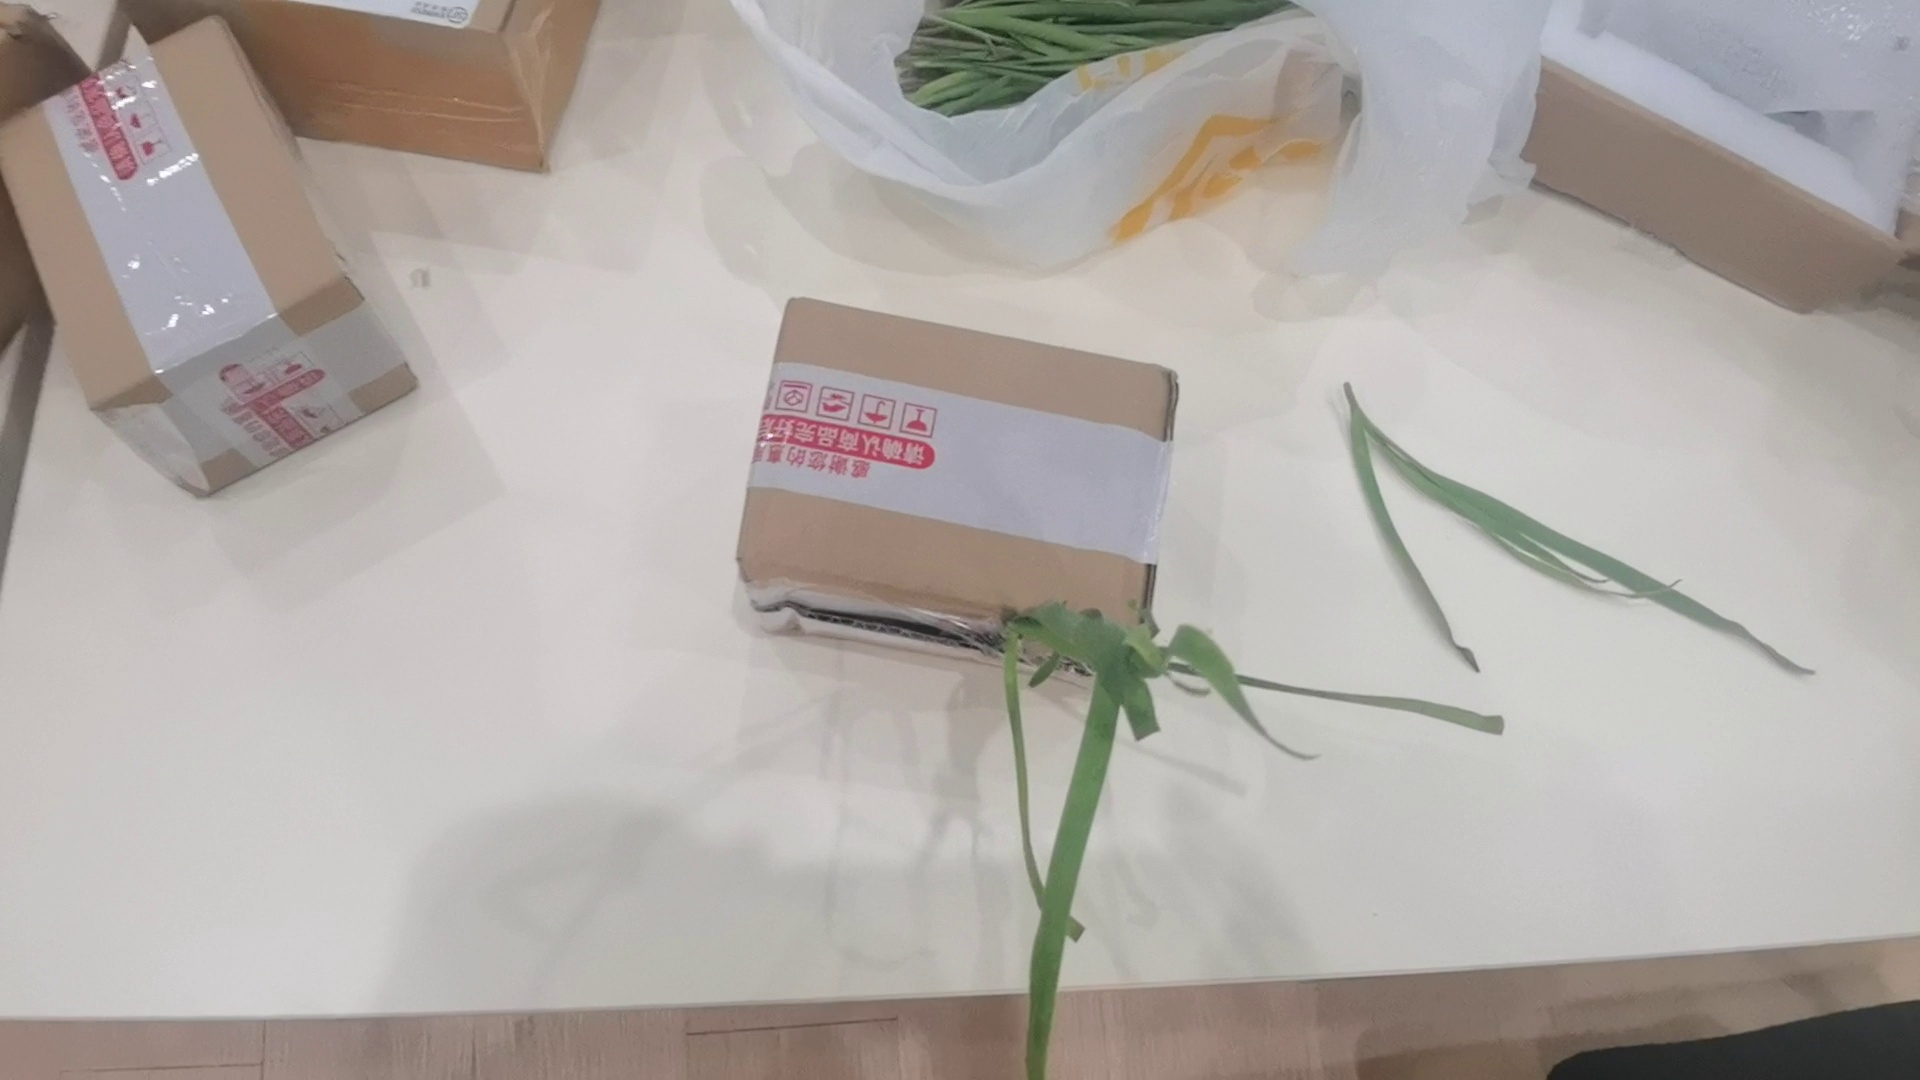chives: (938, 597, 1565, 1080), (1327, 376, 1842, 695)
